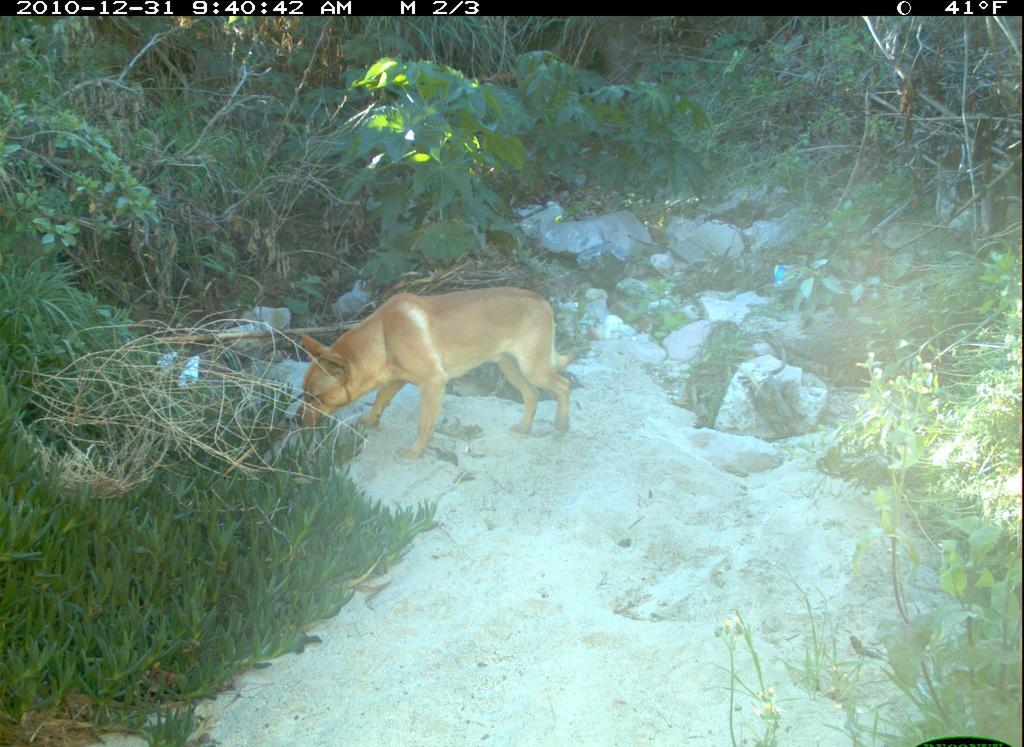dog: (291, 282, 588, 466)
